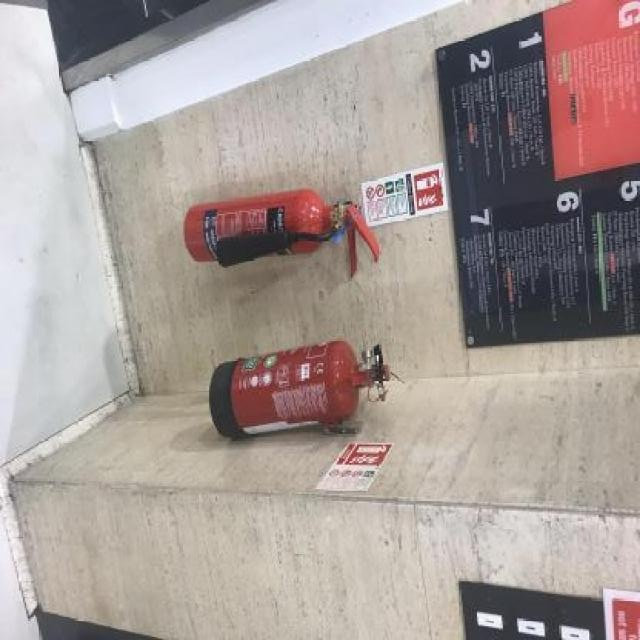fire extinguisher: (210, 335, 382, 443), (183, 189, 375, 260)
